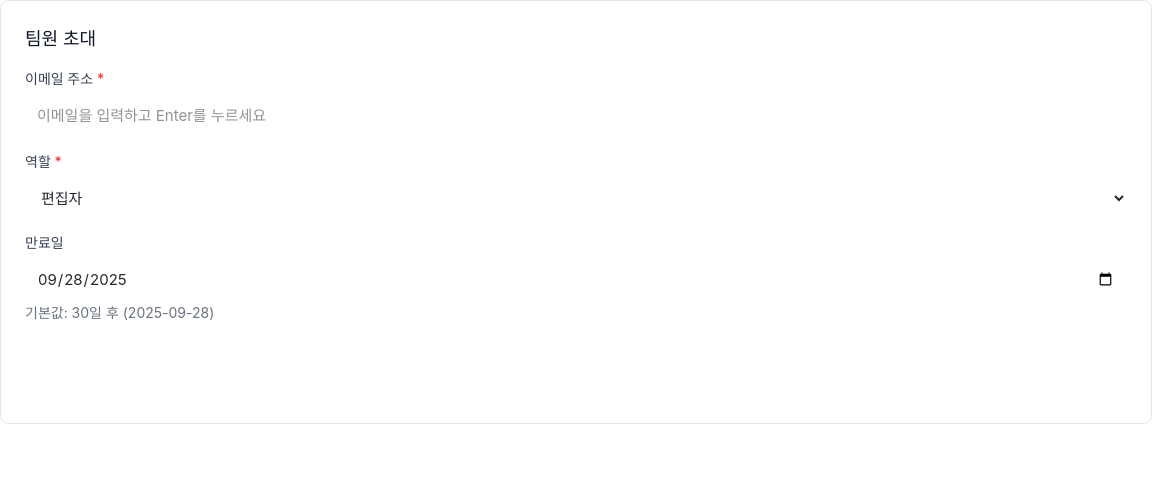
Test case: TeamInviteForm › 이메일 칩 제거가 가능해야 함
In the field labelled "이메일 주소": (576, 116) 25,97 -> 1127,136, type "test@example.com"
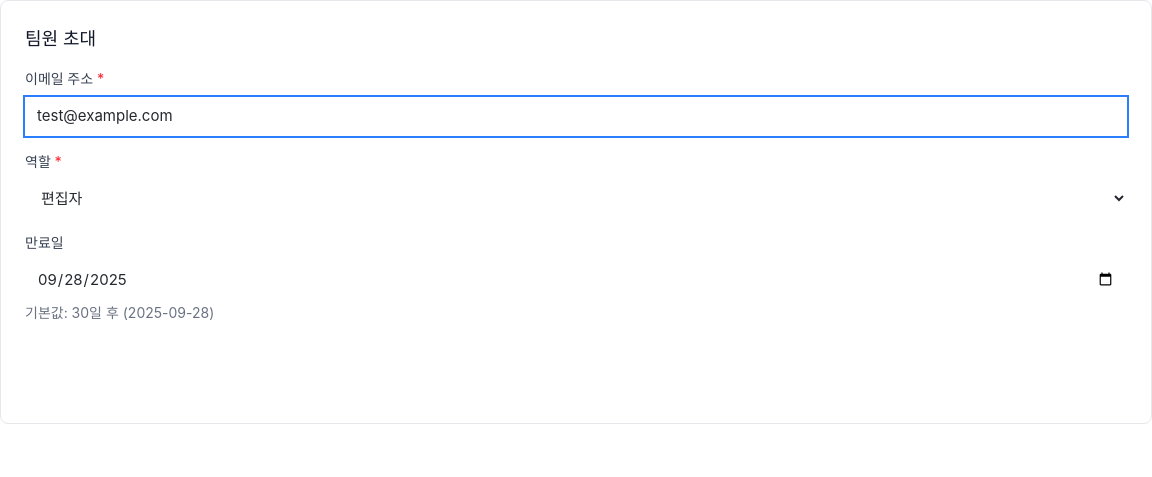
Press Enter
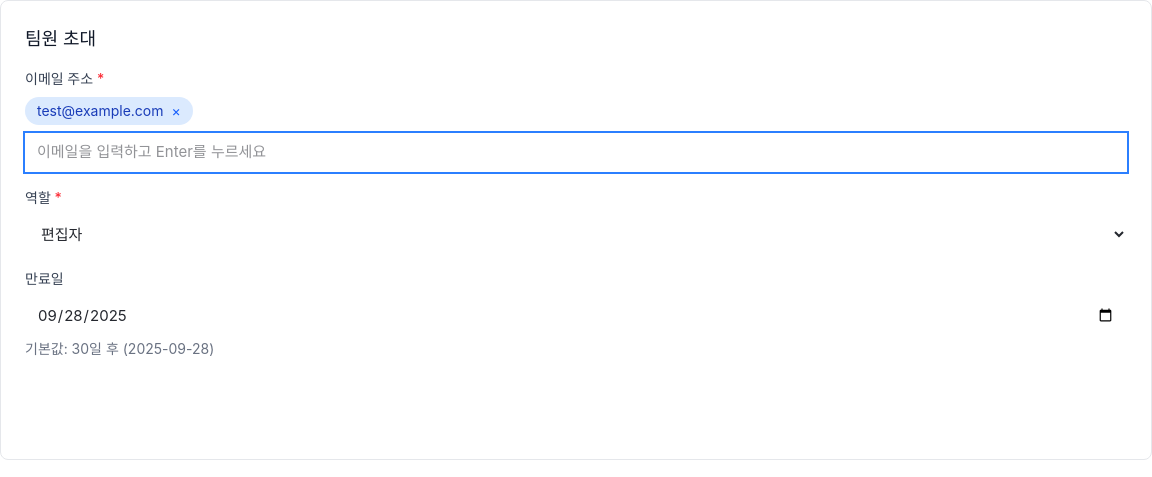
Result: the text "test@example.com" is shown at 37,102 -> 164,119
Click the button named "test@example.com 제거": (176, 111) 172,101 -> 181,121
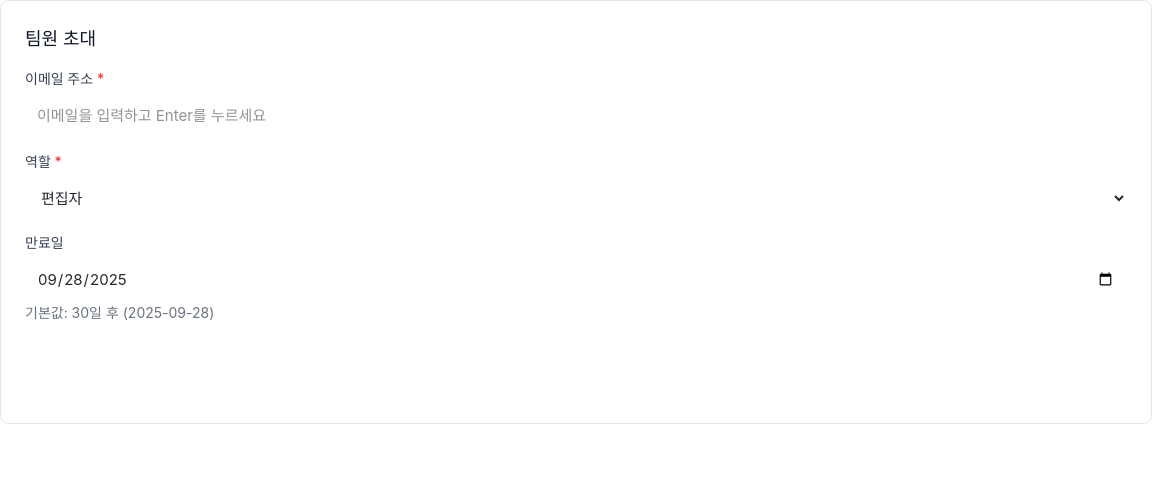
Result: the text "test@example.com" is gone
